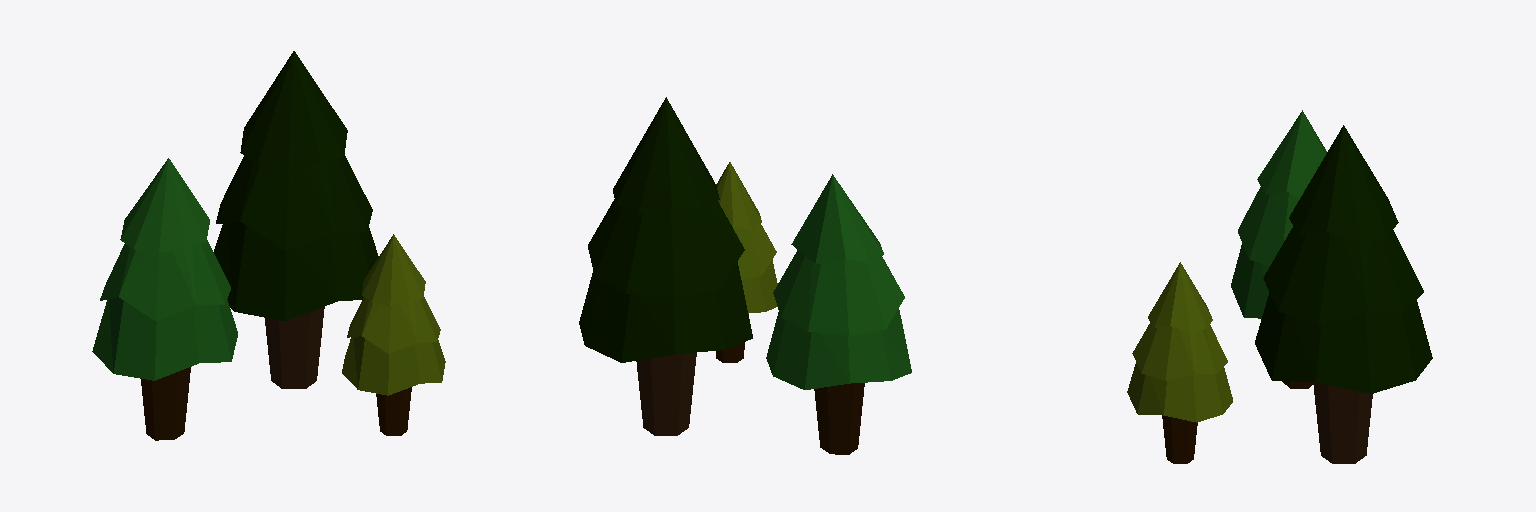
Rendered from trees.obj.
3 renders of one model, left to right at view 1: azimuth 30°, elevation 25°; view 2: azimuth 150°, elevation 25°; view 3: azimuth 270°, elevation 25°, orthographic.
Visible parts, largest first — view 1: TreeLeaves2, TreeLeaves1, TreeLeaves3, TreeTrunk2, TreeTrunk1, TreeTrunk3; view 2: TreeLeaves2, TreeLeaves1, TreeLeaves3, TreeTrunk2, TreeTrunk1; view 3: TreeLeaves2, TreeLeaves3, TreeLeaves1, TreeTrunk2, TreeTrunk3.
Part boxes in pixels (left/top/right/bottom): TreeLeaves2: left=214, top=51, right=378, bottom=320; TreeLeaves1: left=92, top=158, right=237, bottom=380; TreeLeaves3: left=342, top=234, right=445, bottom=395; TreeTrunk2: left=265, top=307, right=324, bottom=388; TreeTrunk1: left=141, top=367, right=190, bottom=440; TreeTrunk3: left=376, top=387, right=411, bottom=435; TreeLeaves2: left=579, top=97, right=752, bottom=362; TreeLeaves1: left=766, top=174, right=911, bottom=389; TreeLeaves3: left=716, top=162, right=777, bottom=313; TreeTrunk2: left=636, top=353, right=696, bottom=435; TreeTrunk1: left=814, top=383, right=864, bottom=454; TreeLeaves2: left=1255, top=125, right=1432, bottom=393; TreeLeaves3: left=1127, top=262, right=1232, bottom=422; TreeLeaves1: left=1231, top=110, right=1326, bottom=318; TreeTrunk2: left=1313, top=382, right=1372, bottom=463; TreeTrunk3: left=1162, top=415, right=1197, bottom=463.
Size of the model in its own units: 0.809 by 0.892 by 0.747.